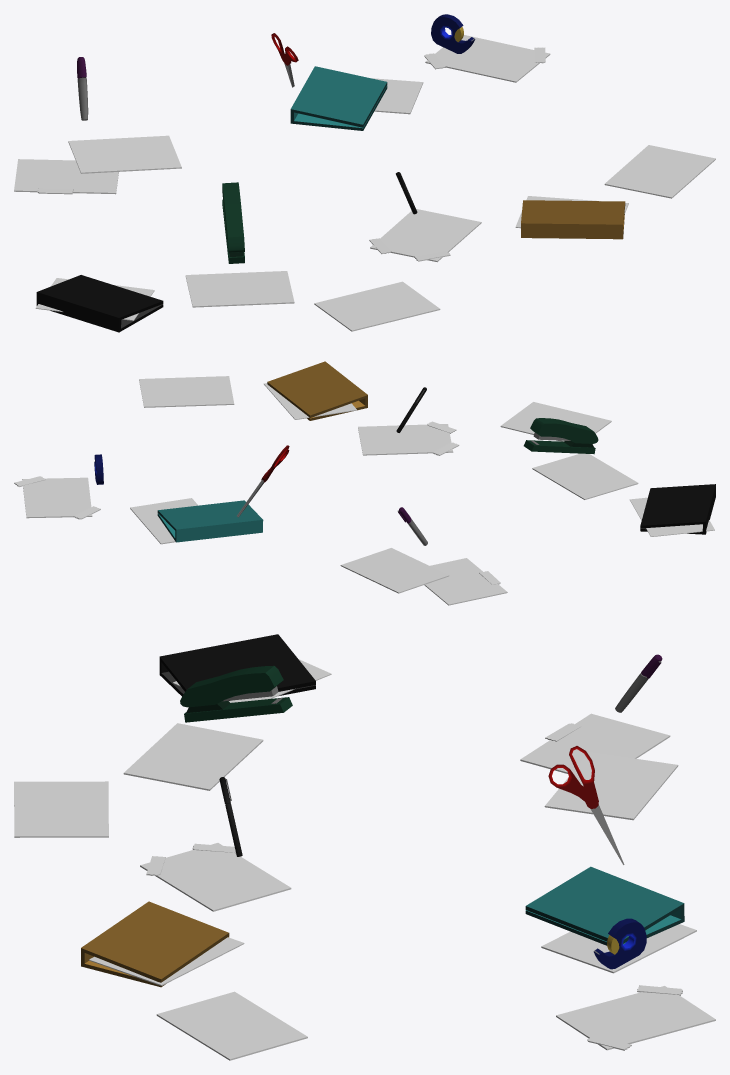
Rendered from Paper_Land_Static.fbx.
3 renders of one model, top to bottom at view 1: azimuth 30°, elevation 25°; view 2: azimuth 150°, elevation 25°; view 3: azimuth 270°, elevation 25°, orthographic. The views are drawn at different scales.
Visible parts, largest first — view 1: Binder_2, Binder_3, Binder_1, Paper_6, Paper_8, Paper_9, Paper_1, Paper_4, Paper_2, Paper_7, Stapler, Paper_5 (+2 smaller); view 2: Binder_1, Binder_2, Binder_3, Paper_1, Paper_9, Paper_6, Paper_2, Paper_4, Paper_7, Stapler, Paper_8, Paper_5 (+2 smaller); view 3: Binder_1, Binder_2, Paper_1, Paper_9, Paper_8, Paper_2, Paper_4, Binder_3, Paper_6, Stapler, Paper_7, Paper_5 (+4 smaller).
Boxes of the visible parts, <box> form: Binder_2: <box>290,66,387,130</box>; Binder_3: <box>36,275,163,332</box>; Binder_1: <box>521,200,625,239</box>; Paper_6: <box>68,135,181,173</box>; Paper_8: <box>314,281,440,331</box>; Paper_9: <box>185,271,294,307</box>; Paper_1: <box>604,145,715,198</box>; Paper_4: <box>370,209,481,262</box>; Paper_2: <box>425,35,550,82</box>; Paper_7: <box>14,159,118,194</box>; Stapler: <box>222,182,244,263</box>; Paper_5: <box>372,78,423,114</box>; Binder_1: <box>267,361,367,420</box>; Binder_2: <box>157,500,263,542</box>; Binder_3: <box>640,484,715,534</box>; Paper_1: <box>139,376,234,407</box>; Paper_9: <box>532,453,638,499</box>; Paper_6: <box>340,548,449,593</box>; Paper_2: <box>22,477,92,518</box>; Paper_4: <box>358,424,453,455</box>; Paper_7: <box>424,558,507,605</box>; Stapler: <box>523,418,598,454</box>; Paper_8: <box>500,402,611,441</box>; Paper_5: <box>130,498,197,544</box>; Binder_1: <box>81,901,229,987</box>; Binder_2: <box>525,866,684,945</box>; Paper_1: <box>156,991,307,1060</box>; Paper_9: <box>123,723,263,790</box>; Paper_8: <box>14,781,108,837</box>; Paper_2: <box>556,986,715,1050</box>; Paper_4: <box>140,843,291,911</box>; Binder_3: <box>159,634,315,700</box>; Paper_6: <box>544,752,678,820</box>; Stapler: <box>180,665,292,722</box>; Paper_7: <box>520,713,670,773</box>; Paper_5: <box>541,924,696,973</box>.
Size of the model in its own units: 79.72 by 11.51 by 57.47.
